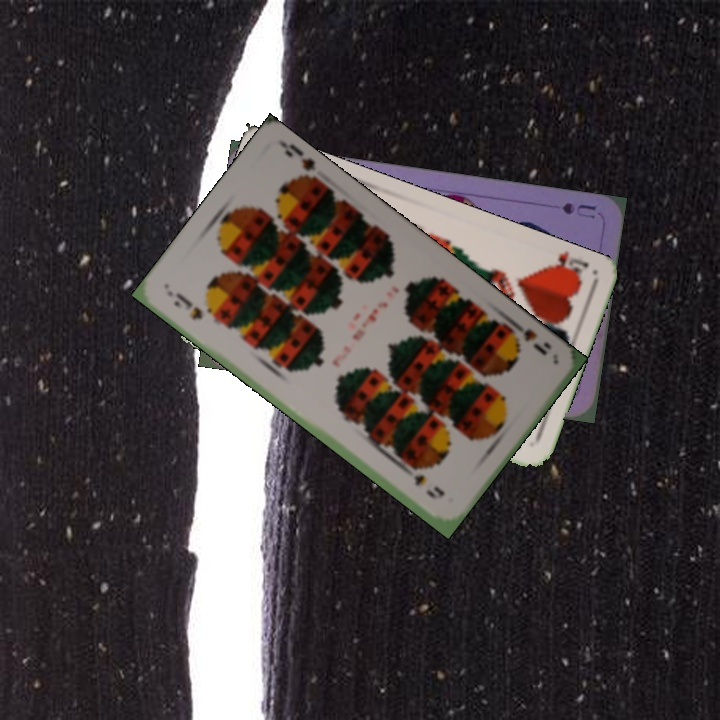HO: (538, 248, 592, 283)
S9: (505, 316, 550, 358), (169, 296, 205, 323)
SU: (557, 199, 599, 221)
